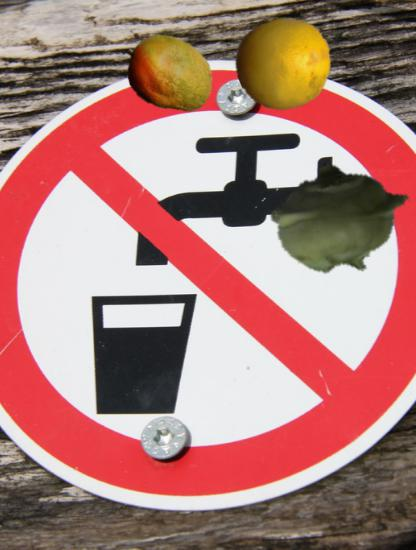Grapefruit: (236, 16, 333, 113)
Kohlrabi: (271, 146, 414, 289)
Papaya: (122, 27, 217, 122)
